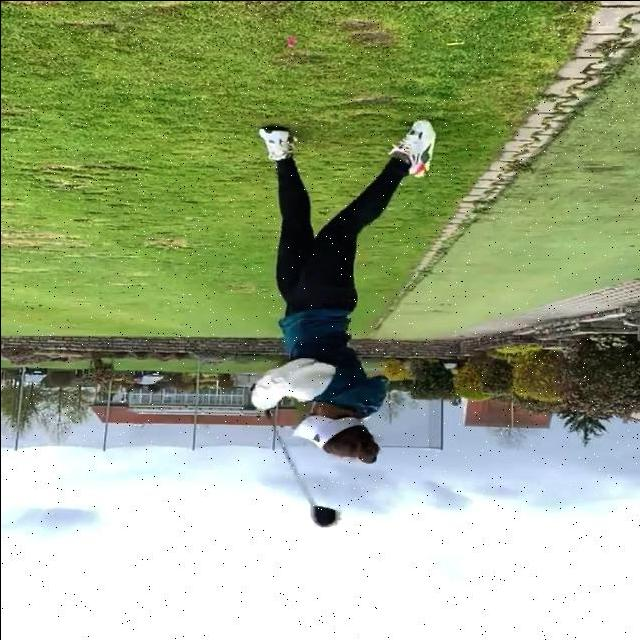golf club-handle: (248, 386, 337, 527)
golf club-head: (311, 503, 338, 527)
